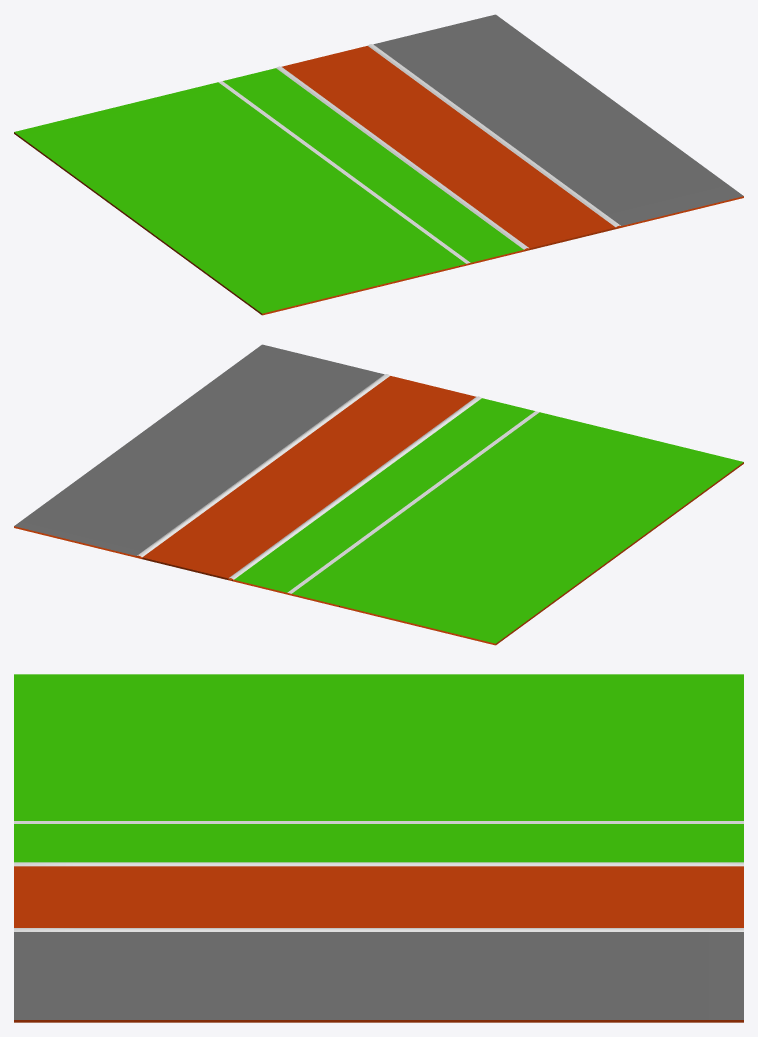
File: AtlRoadNew.fbx
3 renders of one model, top to bottom at view 1: azimuth 30°, elevation 25°; view 2: azimuth 150°, elevation 25°; view 3: azimuth 270°, elevation 25°, orthographic. The views are drawn at different scales.
Parts seen in each view (by area): view 1: Cube; view 2: Cube; view 3: Cube.
Boxes of the visible parts, x1=… form: Cube: x1=14, y1=14, x2=743, y2=315; Cube: x1=14, y1=344, x2=743, y2=645; Cube: x1=14, y1=674, x2=743, y2=1022.
Size of the model in its own units: 11205 by 59.49 by 10000.
